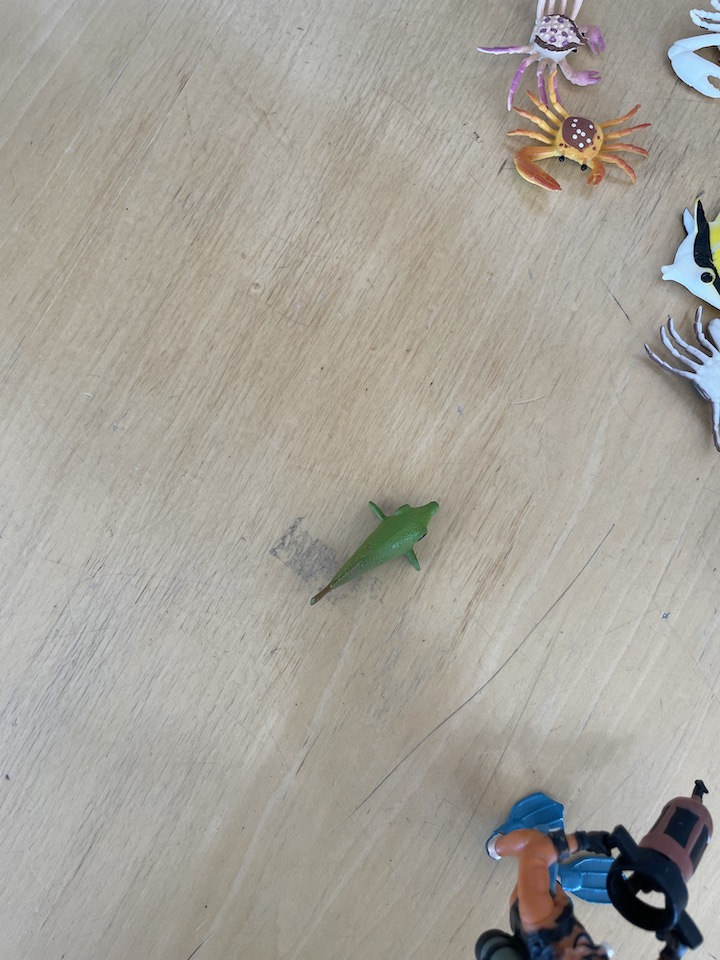crab: (503, 68, 660, 196), (471, 1, 610, 119), (639, 305, 720, 457), (662, 1, 720, 105)
danger: (656, 193, 720, 314)
diver: (471, 774, 720, 960)
fish: (303, 495, 445, 612)
